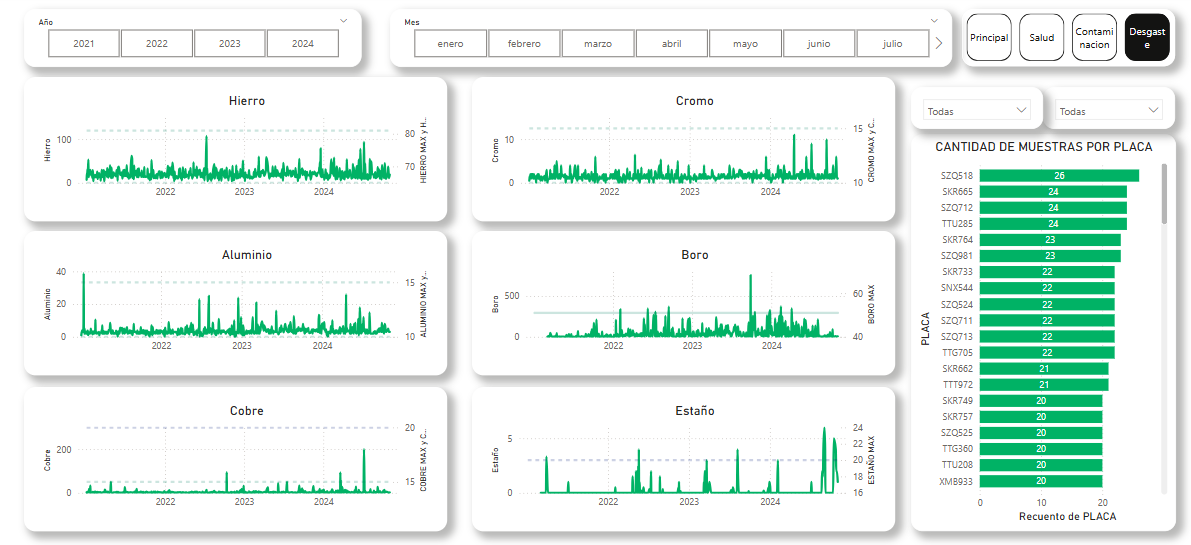

The dashboard page shown, as its layout file describes it:
{"tool":"powerbi","page":{"name":"Desgaste","canvas":[1580,720],"ordinal":3},"visuals":[{"type":"slicer","fields":{"Values":["Historial.FECHA DE TOMA .Variación.Jerarquía de fechas.Año"]},"box":[40.3,18.5,441.8,75.6],"z":0},{"type":"slicer","fields":{"Values":["Historial.FECHA DE TOMA .Variación.Jerarquía de fechas.Mes"]},"box":[519.1,18.5,735.7,75.6],"z":1000},{"type":"pageNavigator","box":[1269.1,18.7,278.6,74.8],"z":2000},{"type":"barChart","title":"CANTIDAD DE MUESTRAS POR PLACA","fields":{"Category":["Historial.PLACA "],"Y":["CountNonNull(Historial.PLACA )"]},"box":[1201.1,181.8,346.6,519.9],"z":3000},{"type":"lineChart","title":"Hierro","fields":{"Y":["Avg(Historial.Fe� Hierro)"],"Category":["Historial.FECHA DE TOMA "],"Y2":["Avg(LIMITES.HIERRO_MAX)","Avg(LIMITES.HIERRO_MIN)"]},"box":[40.8,107,553.8,188.6],"z":5000},{"type":"lineChart","title":"Cromo","fields":{"Y":["Avg(Historial.Cr� Cromo)"],"Category":["Historial.FECHA DE TOMA "],"Y2":["Avg(LIMITES.CROMO_MAX)","Avg(LIMITES.CROMO_MIN)"]},"box":[626.9,107,553.8,188.6],"z":6000},{"type":"lineChart","title":"Aluminio","fields":{"Y":["Avg(Historial.Al� Aluminio)"],"Category":["Historial.FECHA DE TOMA "],"Y2":["Avg(LIMITES.ALUMINIO_MAX)","Avg(LIMITES.ALUMINIO_MIN)"]},"box":[40.8,309.2,553.8,188.6],"z":7000},{"type":"lineChart","title":"Boro","fields":{"Y":["Sum(Historial.B� Boro)"],"Category":["Historial.FECHA DE TOMA "],"Y2":["Avg(LIMITES.BORO_MAX)"]},"box":[626.9,309.2,553.8,188.6],"z":8000},{"type":"lineChart","title":"Cobre","fields":{"Y":["Avg(Historial.Cu� Cobre)"],"Category":["Historial.FECHA DE TOMA "],"Y2":["Avg(LIMITES.COBRE_MAX)","Avg(LIMITES.COBRE_MIN)"]},"box":[40.8,513.1,553.8,188.6],"z":9000},{"type":"lineChart","title":"Estaño","fields":{"Y":["Avg(Historial.Sn� Estaño)"],"Category":["Historial.FECHA DE TOMA "],"Y2":["Avg(LIMITES.ESTAÑO_MAX)"]},"box":[626.9,513.1,553.8,188.6],"z":10000},{"type":"slicer","fields":{"Values":["Historial.PLACA "]},"box":[1375,120,173.3,55],"z":10001},{"type":"slicer","fields":{"Values":["Historial.ESTADO "]},"box":[1201.7,120,173.3,55],"z":10002}]}

Visuals, with their boxes in screenshot pixels (x1, y1, x2, y2), scaled from the page's 1580x720 canvas onto the 1191x545 screenshot:
slicer - Historial.FECHA DE TOMA .Variación.Jerarquía de fechas.Año: [30, 14, 363, 71]
slicer - Historial.FECHA DE TOMA .Variación.Jerarquía de fechas.Mes: [391, 14, 946, 71]
pageNavigator: [957, 14, 1167, 71]
"CANTIDAD DE MUESTRAS POR PLACA" barChart: [905, 138, 1167, 531]
"Hierro" lineChart: [31, 81, 448, 224]
"Cromo" lineChart: [473, 81, 890, 224]
"Aluminio" lineChart: [31, 234, 448, 377]
"Boro" lineChart: [473, 234, 890, 377]
"Cobre" lineChart: [31, 388, 448, 531]
"Estaño" lineChart: [473, 388, 890, 531]
slicer - Historial.PLACA : [1036, 91, 1167, 132]
slicer - Historial.ESTADO : [906, 91, 1036, 132]
